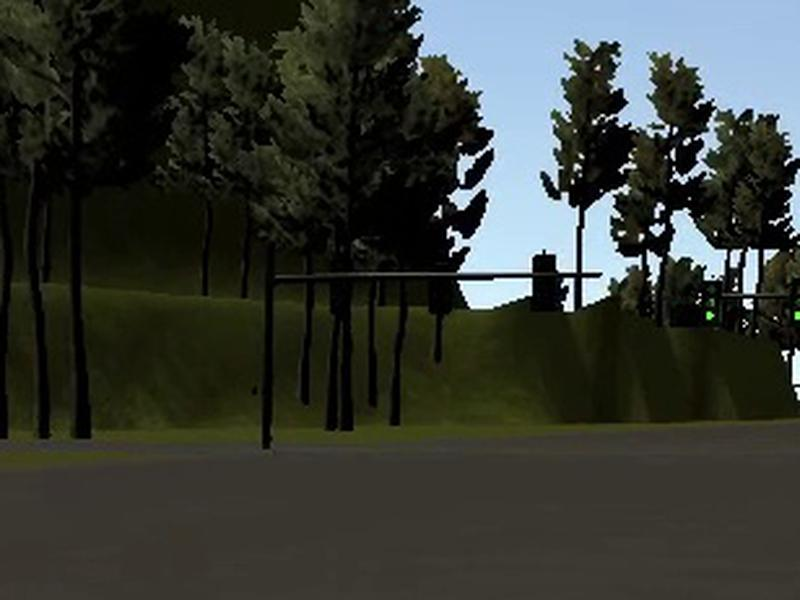Green: (702, 281, 722, 327), (789, 278, 800, 324)
